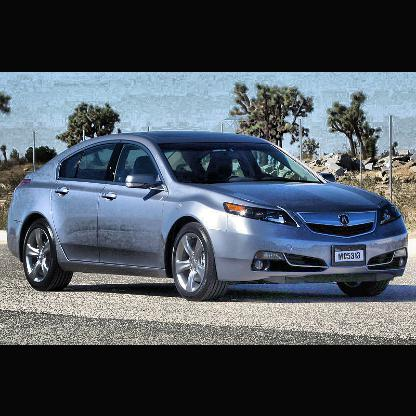Acura TL Sedan 2012: (8, 132, 410, 301)
